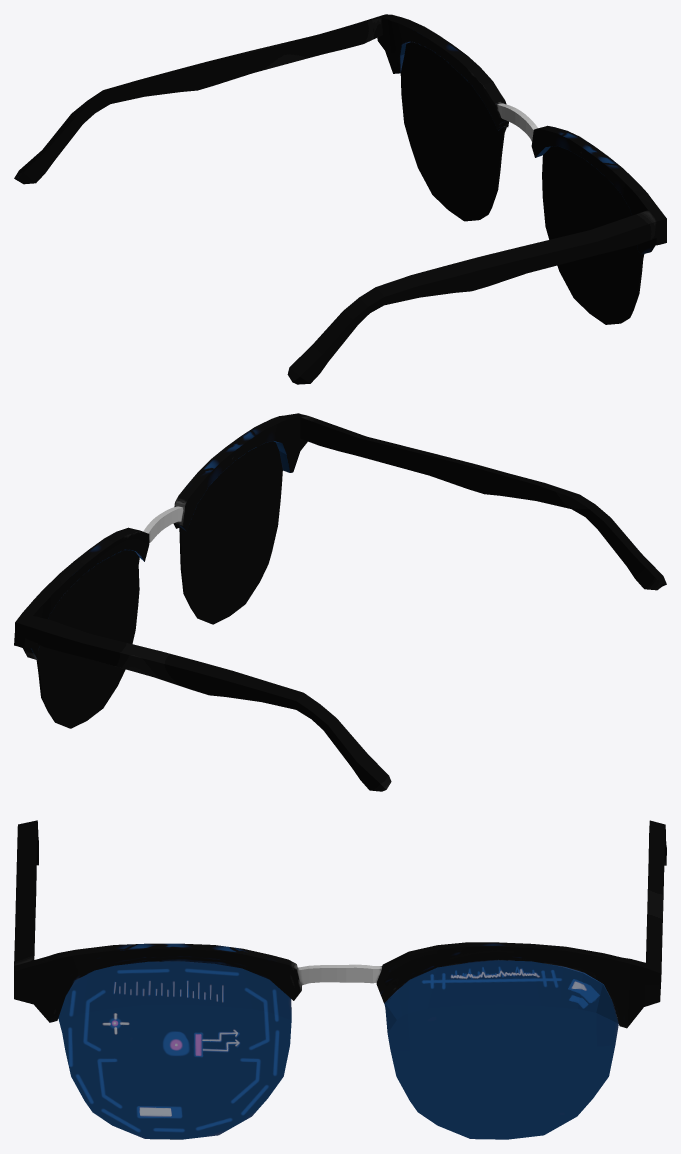
The model's file is MD_SMART_GLASSES_.fbx.
The picture shows the model from 3 angles, top to bottom: view 1: azimuth 30°, elevation 25°; view 2: azimuth 150°, elevation 25°; view 3: azimuth 270°, elevation 25°; orthographic projection. The views are drawn at different scales.
Visible parts, largest first — view 1: frame.001; view 2: frame.001; view 3: frame.001.
Boxes of the visible parts, x1,y1,x2,y2 form: frame.001: (14, 14, 666, 384); frame.001: (14, 413, 666, 791); frame.001: (14, 820, 666, 1139).
Size of the model in its own units: 140 by 60.08 by 184.
